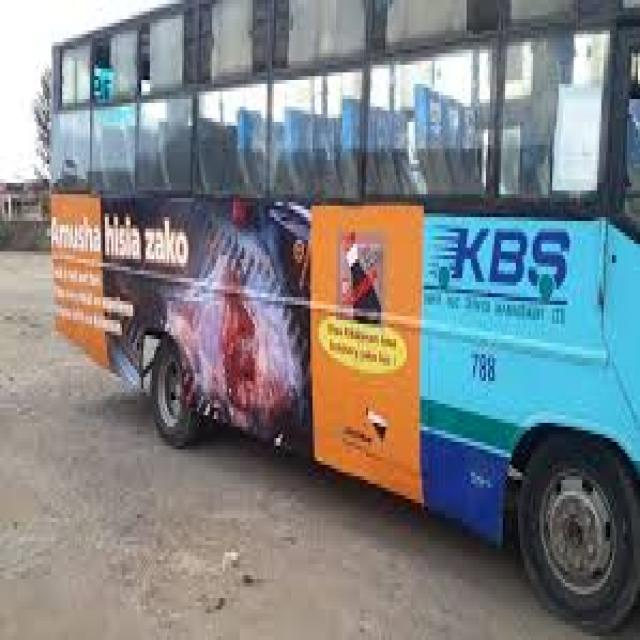bus: (41, 0, 638, 629)
